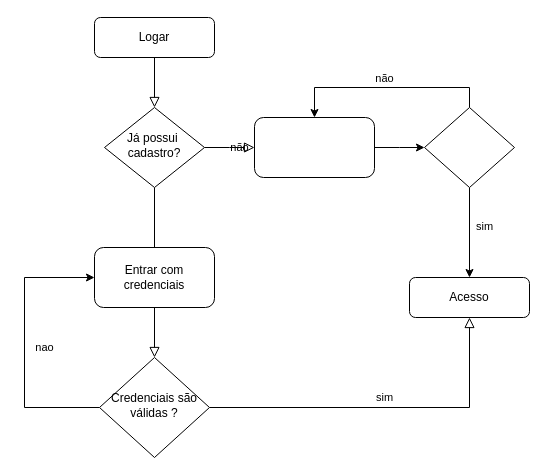
Image size: 547x475. Some labels were removed from this diagram. The centre of each missing label's shape, as x and y in pixels:
cadastrar: (314,147)
informações são válidas ?: (469,147)
